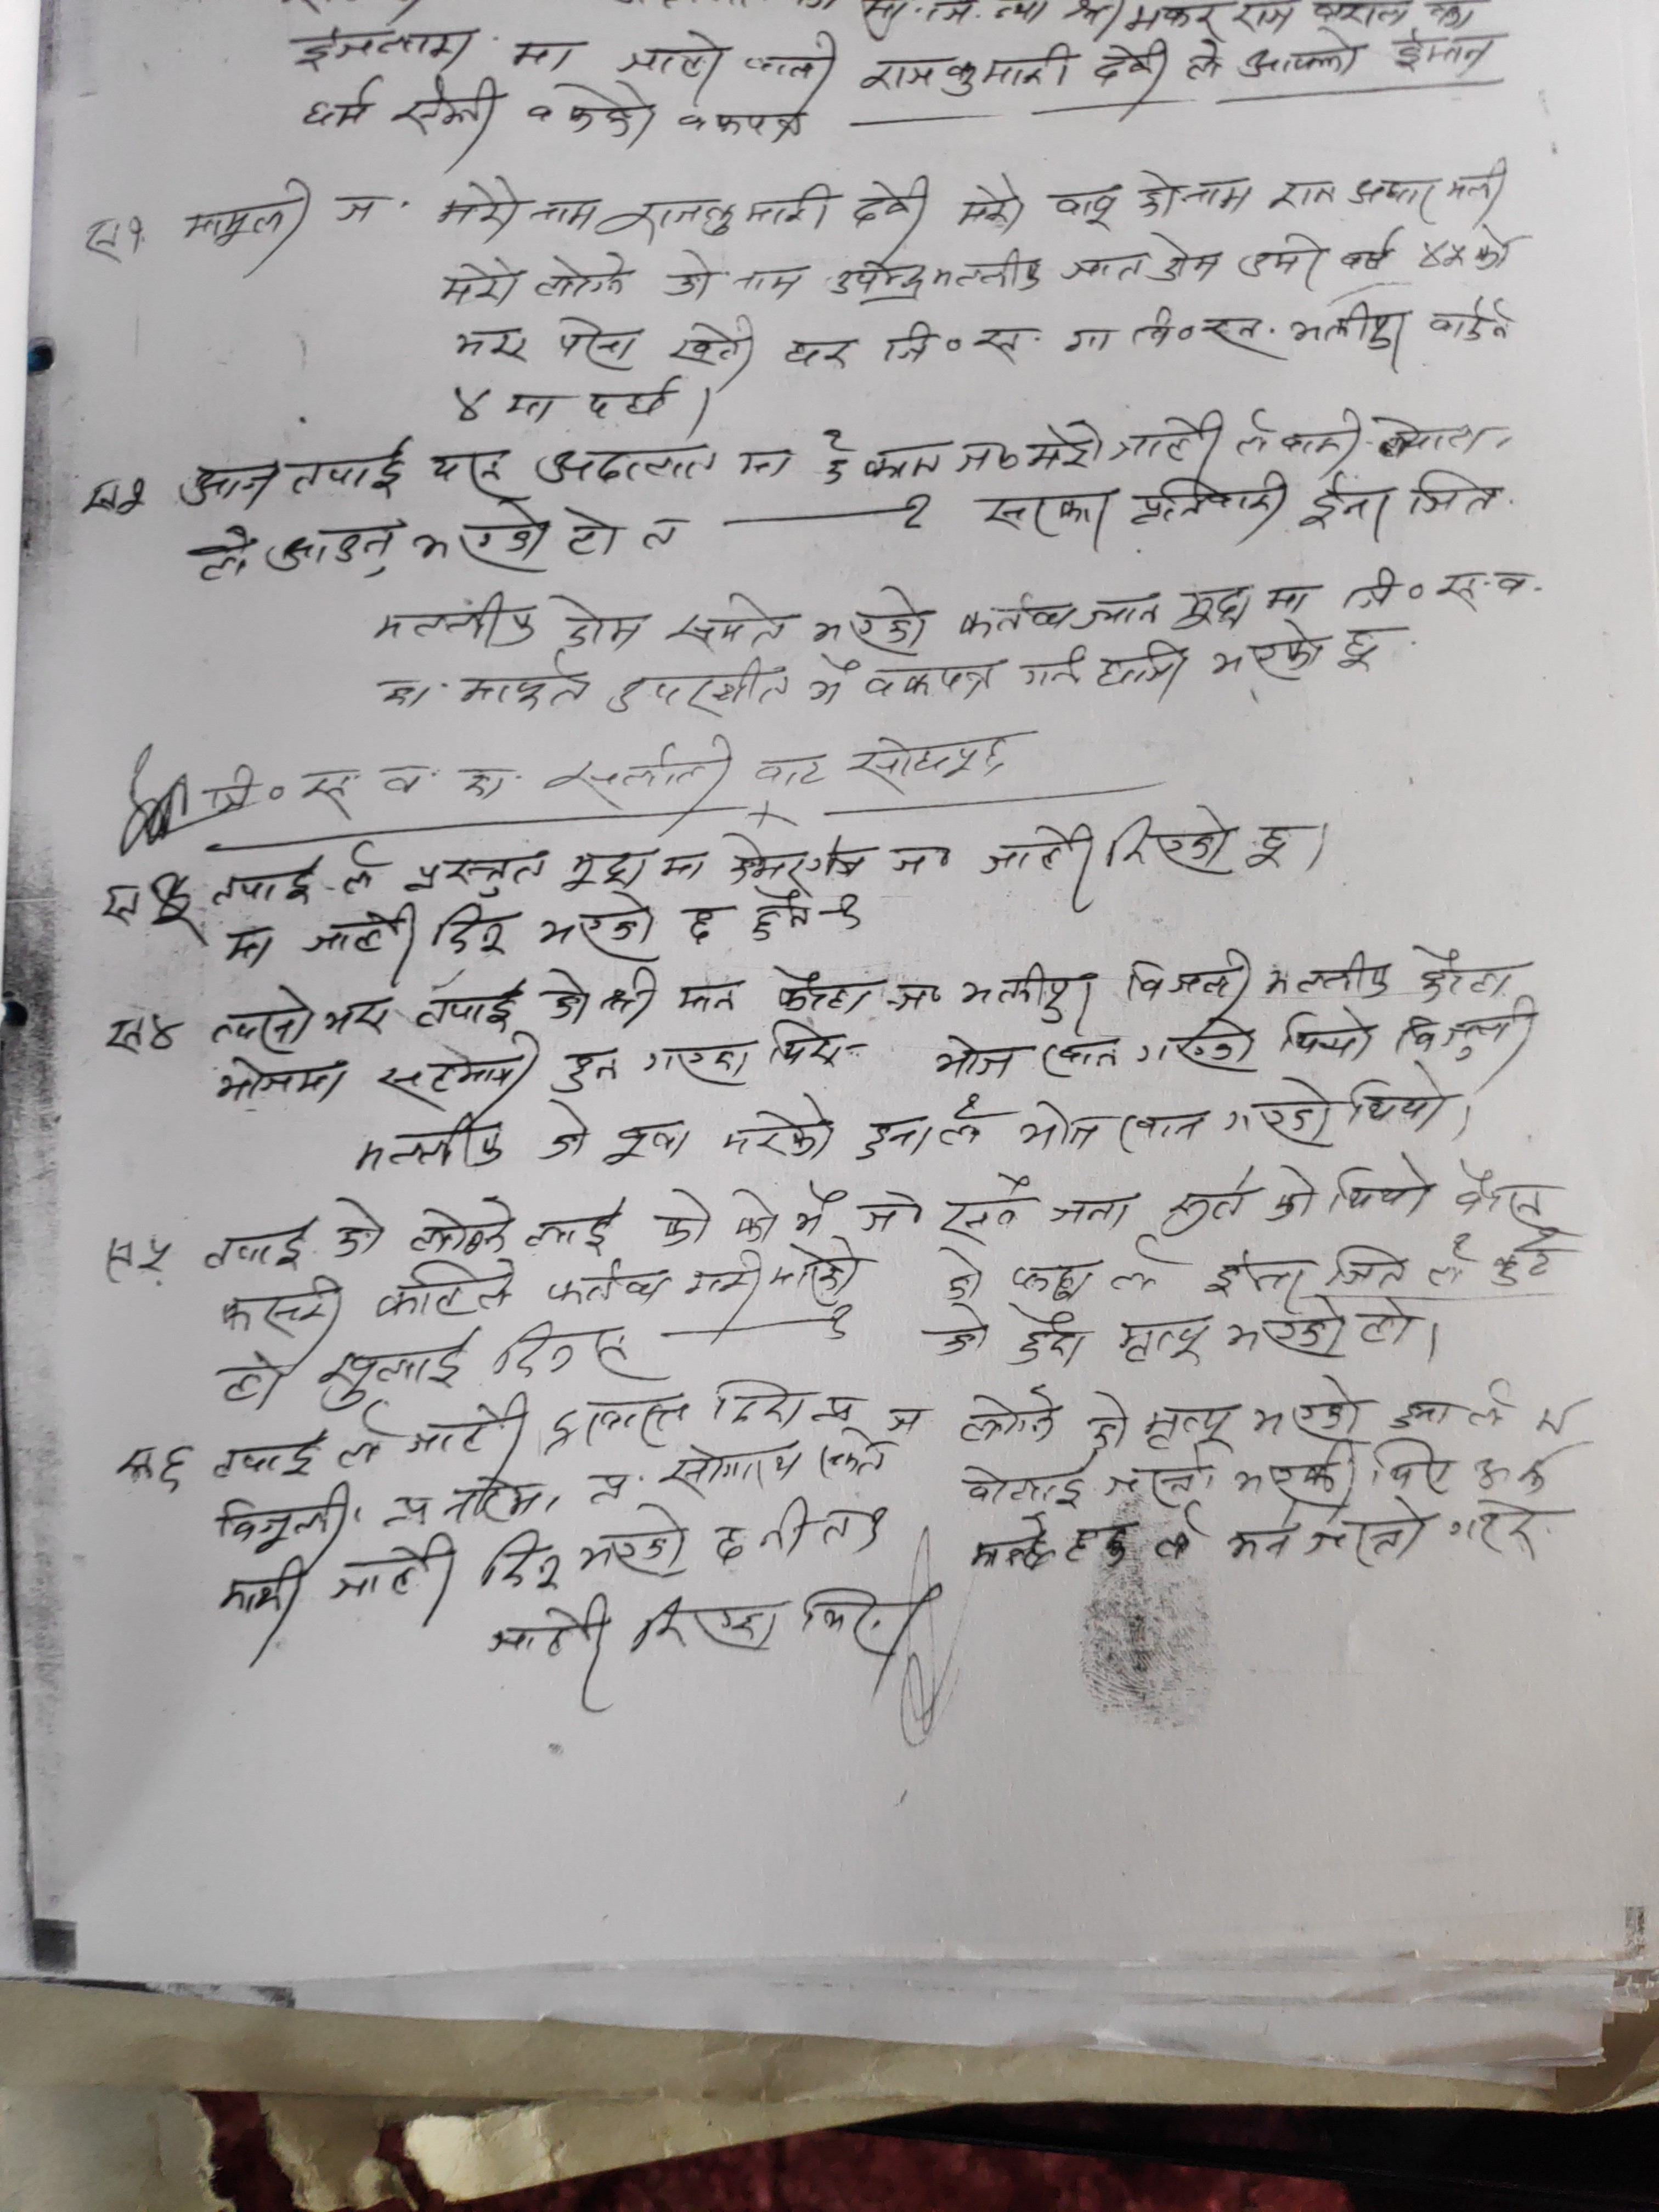text: (538, 730, 735, 810), (371, 1031, 556, 1109), (856, 42, 1073, 106), (483, 1592, 617, 1696), (317, 1322, 469, 1409), (176, 176, 315, 266), (603, 653, 793, 719), (324, 1531, 460, 1622), (1058, 301, 1270, 357), (1127, 467, 1293, 538), (843, 726, 1018, 792), (976, 819, 1096, 914), (411, 496, 552, 575), (1108, 803, 1239, 885), (350, 1109, 509, 1176), (631, 1592, 784, 1660), (976, 481, 1114, 556), (955, 958, 1108, 1022), (218, 1479, 352, 1552), (870, 312, 1049, 366), (493, 1318, 638, 1385), (809, 582, 938, 655), (390, 1468, 559, 1524), (373, 590, 537, 648), (261, 516, 399, 583), (579, 1498, 690, 1581), (291, 23, 481, 71), (650, 1437, 802, 1498), (716, 831, 877, 888), (857, 1092, 978, 1169), (1218, 1075, 1338, 1150), (1230, 1440, 1363, 1508), (371, 1259, 523, 1318), (1389, 1003, 1544, 1061), (1223, 1294, 1347, 1366), (403, 1390, 532, 1458), (533, 890, 659, 960), (721, 1094, 838, 1167), (220, 1271, 345, 1339), (523, 77, 662, 138), (1305, 1498, 1427, 1568), (549, 1390, 687, 1451), (1249, 1369, 1366, 1440), (734, 26, 847, 99), (291, 434, 410, 503), (300, 904, 418, 974), (1290, 298, 1405, 369), (755, 1494, 882, 1559), (1255, 942, 1392, 1001), (1443, 1498, 1561, 1566), (1321, 1155, 1436, 1224), (1232, 24, 1363, 85), (455, 655, 596, 711), (1392, 1376, 1521, 1437), (1126, 949, 1255, 1010), (599, 192, 739, 247), (662, 590, 789, 651), (955, 1453, 1086, 1512), (1293, 472, 1399, 543), (389, 73, 505, 138), (211, 984, 314, 1057), (1344, 1062, 1455, 1129), (1134, 1012, 1258, 1071), (1096, 1451, 1223, 1508), (532, 444, 721, 482), (934, 1169, 1033, 1242), (1448, 1157, 1558, 1223), (211, 1423, 326, 1486), (401, 852, 547, 900), (1134, 162, 1255, 221), (221, 1554, 317, 1627), (1201, 1242, 1312, 1305), (1208, 625, 1328, 683), (521, 1193, 631, 1256), (211, 1057, 350, 1106), (410, 979, 530, 1035), (1112, 408, 1227, 465), (774, 956, 878, 1019), (1368, 1428, 1462, 1498), (864, 655, 999, 704), (613, 30, 734, 84), (931, 242, 1051, 296), (469, 1526, 561, 1595), (1159, 1167, 1253, 1235), (174, 456, 279, 517), (955, 1385, 1060, 1446), (202, 1217, 315, 1273), (540, 1259, 674, 1306), (551, 308, 643, 376), (823, 254, 931, 312), (706, 1372, 810, 1432), (1140, 1399, 1244, 1458), (403, 1198, 512, 1254), (1410, 944, 1520, 1000), (547, 590, 650, 650), (816, 1388, 936, 1439), (1093, 636, 1192, 697), (1108, 1308, 1208, 1369), (765, 1245, 866, 1305), (204, 859, 314, 913), (965, 1512, 1054, 1578), (955, 590, 1070, 641), (420, 441, 512, 503), (1274, 1003, 1377, 1059), (1406, 462, 1502, 521), (425, 900, 521, 960), (437, 174, 523, 239), (634, 1040, 751, 1087), (666, 317, 760, 374), (1009, 1303, 1093, 1367), (322, 1191, 396, 1264), (683, 1247, 763, 1313), (1000, 1252, 1101, 1305), (1089, 33, 1178, 92), (439, 254, 528, 314), (1392, 24, 1504, 71), (744, 181, 835, 239), (1164, 577, 1255, 634), (533, 249, 633, 301), (1234, 232, 1328, 286), (1223, 1501, 1300, 1568), (1347, 174, 1438, 230), (1018, 1097, 1105, 1155), (951, 172, 1028, 237), (1425, 293, 1516, 347), (584, 374, 681, 423), (601, 1120, 695, 1170), (220, 1348, 288, 1416), (1032, 411, 1105, 474), (850, 172, 932, 228), (929, 1029, 1016, 1082), (1044, 183, 1121, 242), (1145, 230, 1223, 287), (1065, 587, 1164, 632), (769, 1015, 850, 1069), (1323, 1238, 1405, 1292), (1110, 1108, 1208, 1153), (561, 843, 653, 890), (859, 435, 945, 486), (599, 960, 666, 1024), (1035, 1033, 1124, 1080), (538, 954, 596, 1026), (653, 1181, 713, 1249), (1042, 1193, 1138, 1235), (301, 78, 380, 129), (1356, 1292, 1420, 1353), (1441, 152, 1509, 209), (1054, 247, 1143, 291), (505, 31, 591, 77), (450, 324, 533, 369), (748, 887, 816, 942), (931, 1299, 993, 1359), (721, 1181, 779, 1245), (1084, 1381, 1133, 1456), (1018, 641, 1084, 695), (753, 752, 828, 799), (788, 1177, 845, 1238), (220, 923, 282, 979), (1338, 225, 1410, 273), (317, 993, 394, 1038), (538, 1099, 591, 1165), (854, 1184, 922, 1235), (936, 1245, 992, 1306), (779, 333, 854, 378), (660, 246, 714, 308), (331, 1414, 394, 1468), (1263, 1160, 1314, 1224), (727, 263, 810, 301), (1333, 622, 1387, 681), (1244, 819, 1304, 873), (1267, 176, 1342, 218), (673, 979, 746, 1021), (554, 1050, 626, 1092), (1413, 230, 1471, 277), (526, 197, 603, 232), (342, 836, 385, 897), (1180, 35, 1227, 91), (1471, 225, 1520, 273), (685, 899, 721, 958), (502, 390, 563, 425), (451, 383, 497, 428), (709, 1517, 746, 1568), (655, 850, 708, 885), (587, 1465, 629, 1505)
